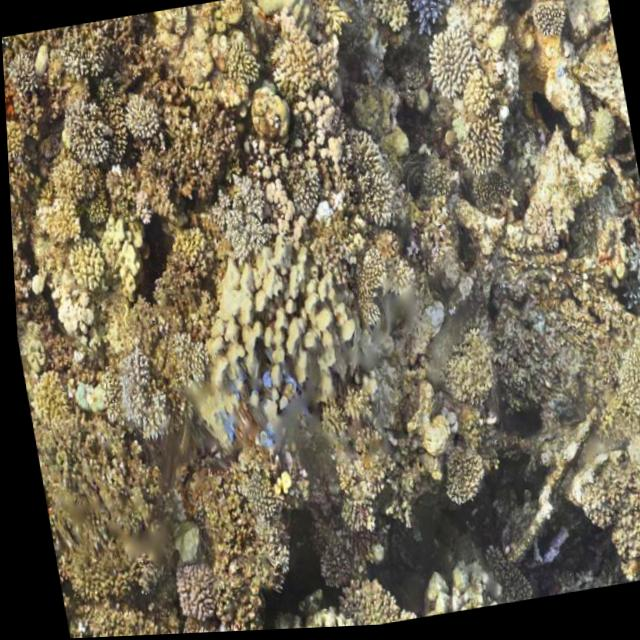Bleached Coral: (107, 347, 171, 440), (400, 0, 461, 49), (470, 0, 512, 8)
